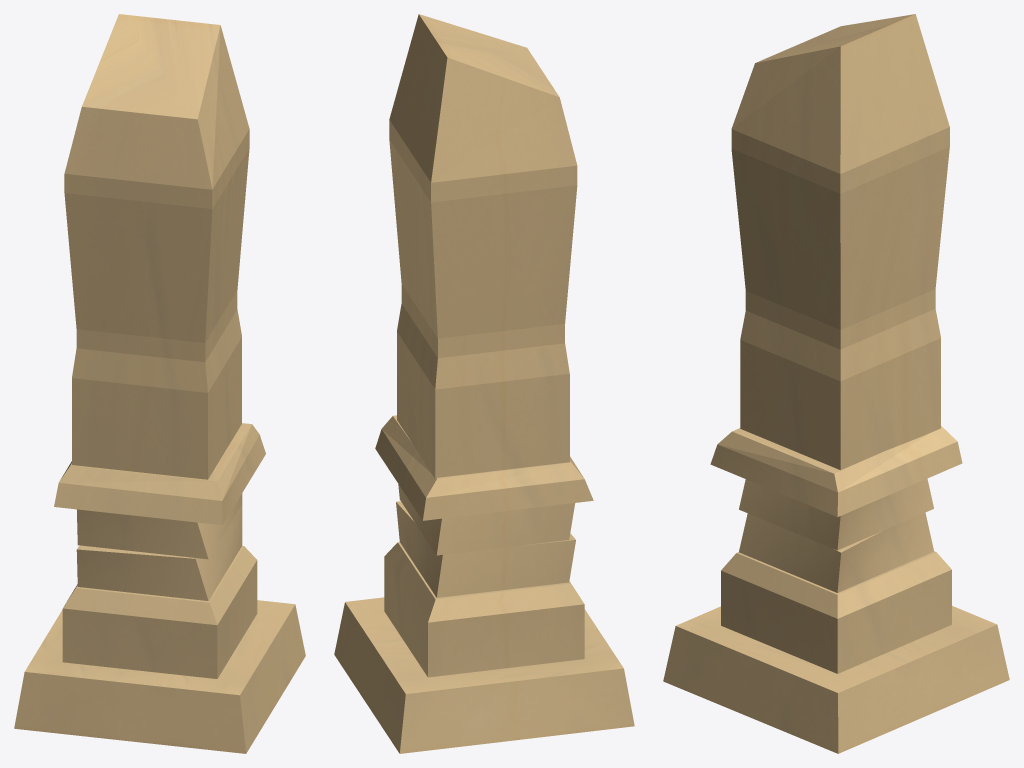
File: Column2B.FBX
3 renders of one model, left to right at view 1: azimuth 30°, elevation 25°; view 2: azimuth 150°, elevation 25°; view 3: azimuth 270°, elevation 25°, orthographic. The views are drawn at different scales.
Parts seen in each view (by area): view 1: Column2B; view 2: Column2B; view 3: Column2B.
Part boxes in pixels (x1,y1,x2,y2): Column2B: (14,14,305,753); Column2B: (334,14,634,753); Column2B: (663,14,1009,753).
Size of the model in its own units: 8.48 by 8.48 by 17.97.
Materials: 1 (1 with a texture image).
